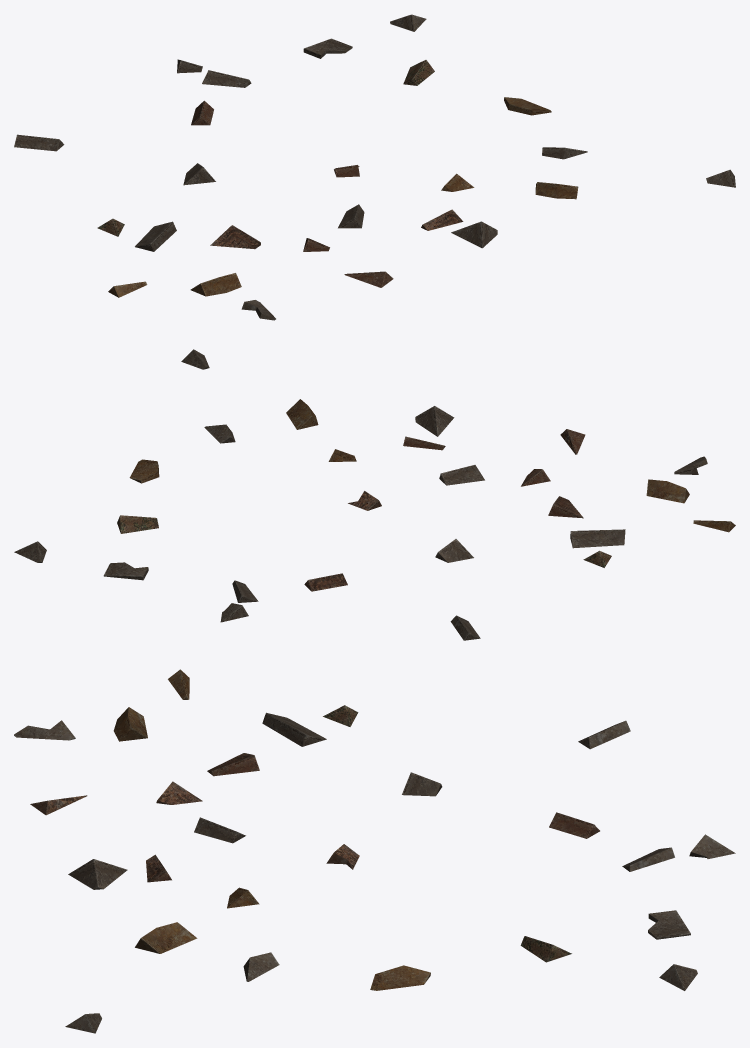
Rendered from debris_bricks_mx_2.glb.
The picture shows the model from 3 angles, top to bottom: view 1: azimuth 30°, elevation 25°; view 2: azimuth 150°, elevation 25°; view 3: azimuth 270°, elevation 25°; orthographic projection. The views are drawn at different scales.
Visible parts, largest first — view 1: debris_bricks_mx_2; view 2: debris_bricks_mx_2; view 3: debris_bricks_mx_2.
Part boxes in pixels (x1,y1,x2,y2): debris_bricks_mx_2: [14, 14, 735, 320]; debris_bricks_mx_2: [14, 349, 735, 640]; debris_bricks_mx_2: [14, 669, 735, 1033].
Size of the model in its own units: 2.33 by 0.0652 by 2.
1 material, 1 textured.
